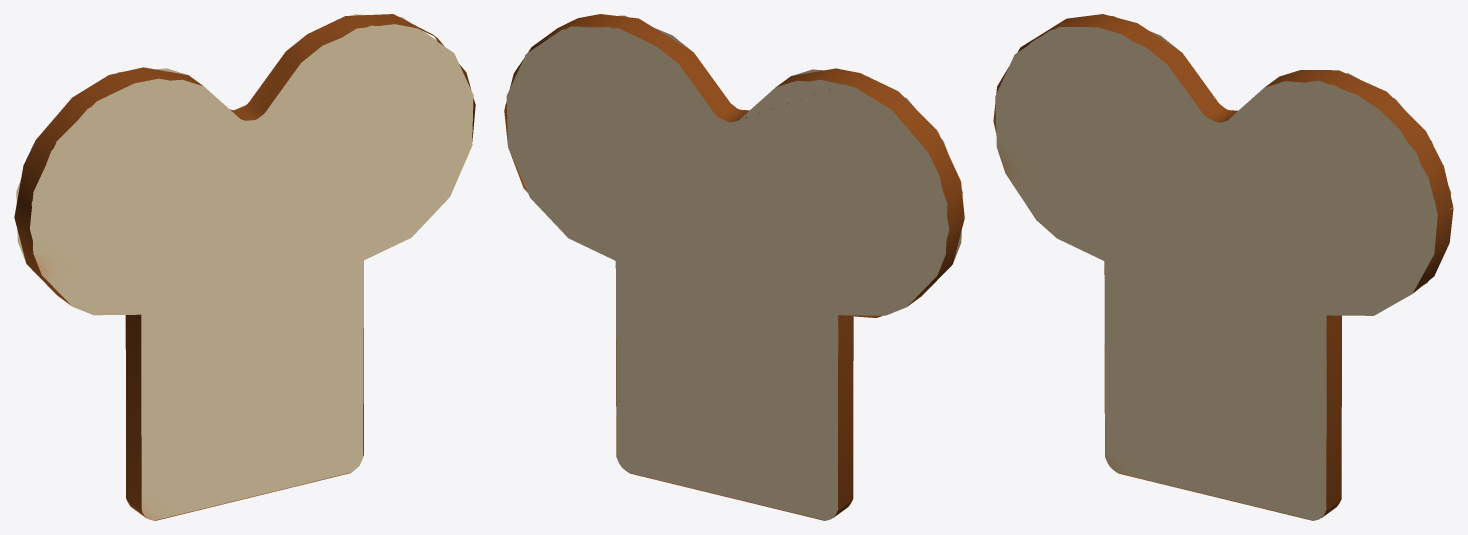
3 renders of one model, left to right at view 1: azimuth 30°, elevation 25°; view 2: azimuth 150°, elevation 25°; view 3: azimuth 330°, elevation 25°, orthographic.
Parts seen in each view (by area): view 1: bread; view 2: bread; view 3: bread.
Part boxes in pixels (x1,y1,x2,y2): bread: (14,14,475,520); bread: (504,14,964,520); bread: (993,14,1453,520).
Bounding box in the file's own units: 5.74 × 5.45 × 0.3441.
1 material, 1 textured.
